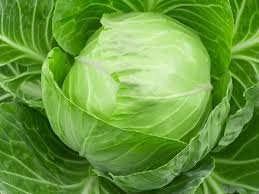cabbage: (41, 13, 236, 193)
